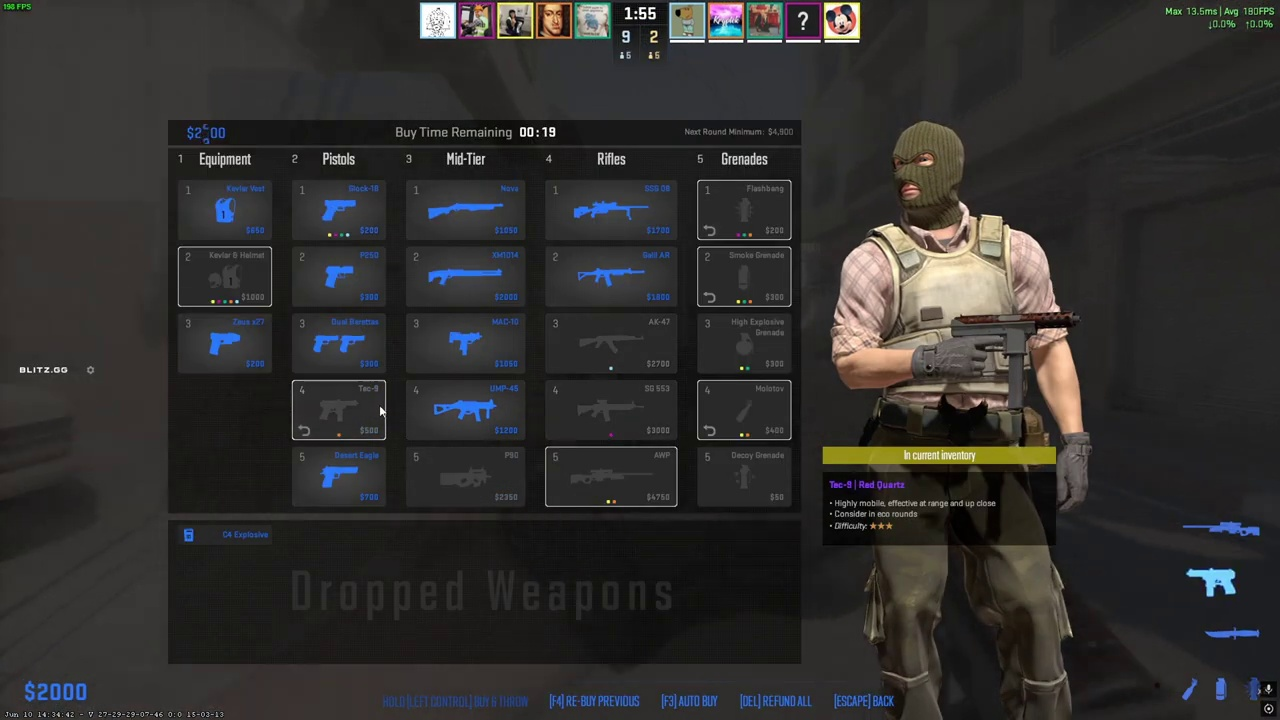Terrorist: (847, 124, 1073, 720)
